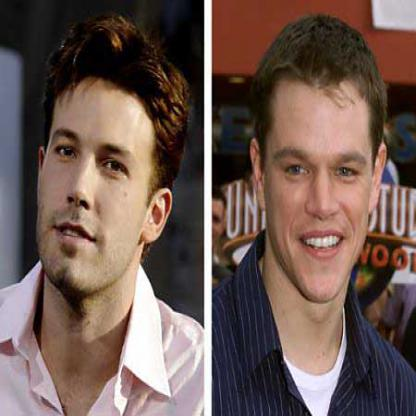face: (41, 33, 161, 299), (267, 35, 377, 305)
